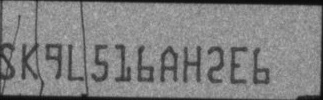1: (113, 43, 132, 82)
2: (207, 46, 225, 84)
5: (91, 44, 109, 83)
6: (136, 42, 155, 83), (252, 45, 270, 83)
9: (44, 42, 63, 80)
A: (159, 46, 178, 85)
E: (230, 45, 249, 85)
H: (182, 45, 201, 82)
K: (22, 41, 39, 81)
L: (67, 43, 85, 81)
S: (1, 42, 17, 81)
